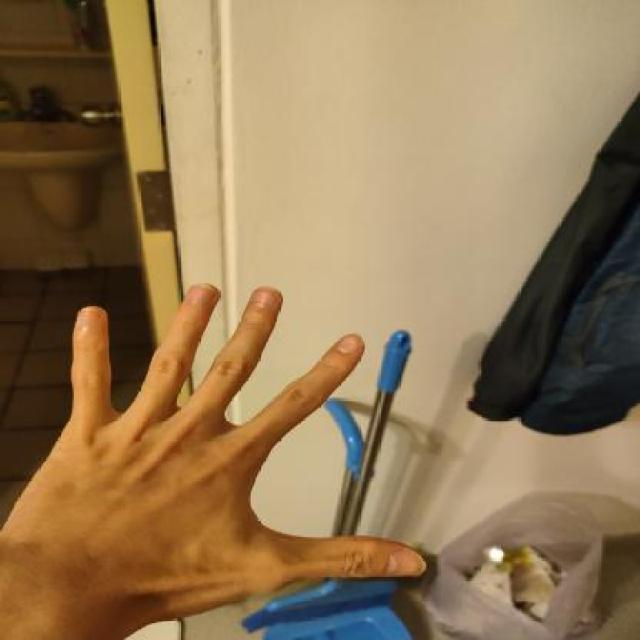bare_hand: (0, 272, 443, 638)
